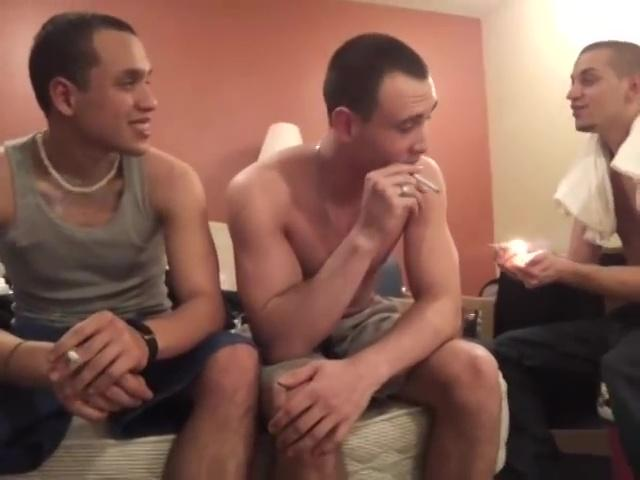cigarette: (411, 172, 444, 196), (64, 348, 79, 366)
